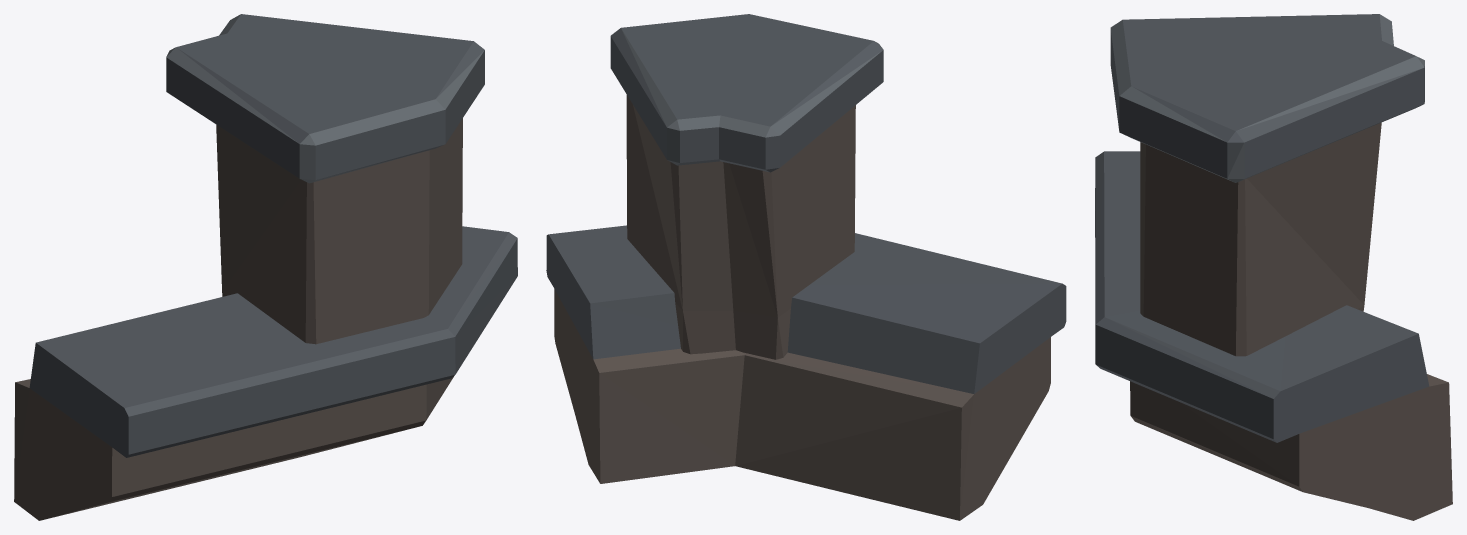
The model's file is MCastle_LargeTurrets_06_Half.FBX.
The picture shows the model from 3 angles, left to right: view 1: azimuth 30°, elevation 25°; view 2: azimuth 150°, elevation 25°; view 3: azimuth 270°, elevation 25°; orthographic projection. The views are drawn at different scales.
Visible parts, largest first — view 1: MCastle_LargeTurrets_06_Half_LOD0; view 2: MCastle_LargeTurrets_06_Half_LOD0; view 3: MCastle_LargeTurrets_06_Half_LOD0.
Boxes of the visible parts, <box> form: MCastle_LargeTurrets_06_Half_LOD0: <box>14,14,517,520</box>; MCastle_LargeTurrets_06_Half_LOD0: <box>546,14,1066,520</box>; MCastle_LargeTurrets_06_Half_LOD0: <box>1095,14,1452,520</box>.
Size of what is drawn, in the model's own units: 4.17 by 3.32 by 2.59.
